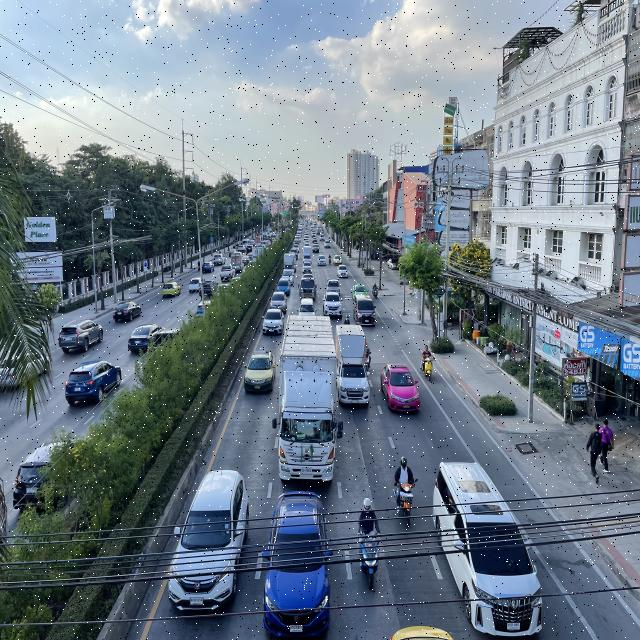bike: (356, 495, 381, 591), (393, 451, 418, 530), (421, 344, 434, 380), (363, 338, 371, 372), (371, 282, 379, 298), (343, 315, 350, 325), (328, 253, 332, 264)
car: (431, 459, 544, 640), (167, 468, 249, 613), (262, 490, 332, 640), (380, 361, 421, 414), (243, 349, 276, 395), (353, 294, 377, 327), (261, 309, 285, 337), (322, 292, 344, 319), (268, 291, 288, 315), (296, 298, 318, 318), (275, 278, 291, 295), (281, 270, 294, 285), (336, 264, 349, 279), (302, 261, 312, 274), (333, 254, 343, 265), (317, 254, 326, 266)
truck: (271, 316, 344, 484), (335, 323, 372, 409), (298, 274, 317, 302), (326, 276, 341, 297), (283, 253, 295, 276), (302, 246, 312, 264)
